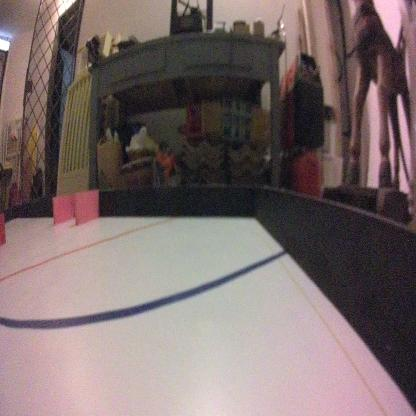magenta: (51, 191, 78, 225), (74, 188, 98, 225)
